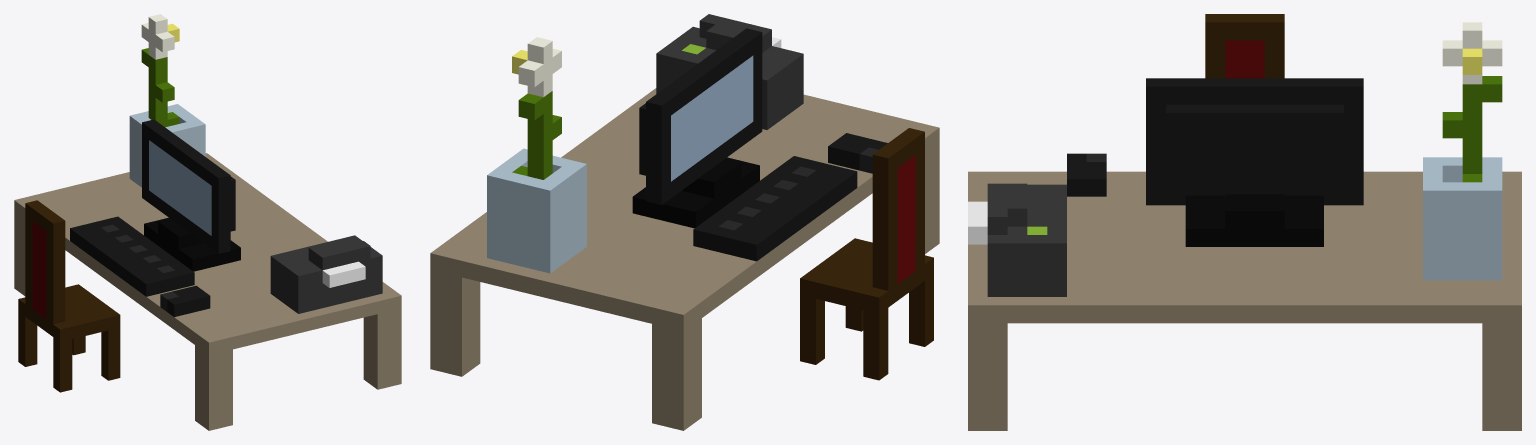
The model's file is salaAda.obj.
3 renders of one model, left to right at view 1: azimuth 30°, elevation 25°; view 2: azimuth 150°, elevation 25°; view 3: azimuth 270°, elevation 25°, orthographic. The views are drawn at different scales.
Bounding box in the file's own units: 22 × 20 × 28.
1 material, 1 textured.
